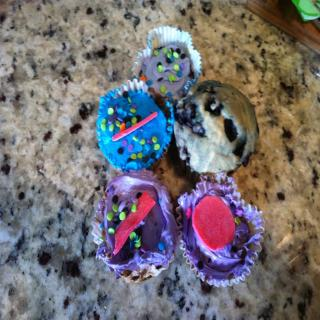Muffin: (92, 25, 264, 285), (178, 132, 259, 279), (91, 168, 179, 284), (172, 80, 260, 184), (94, 78, 174, 174), (130, 25, 202, 106)
